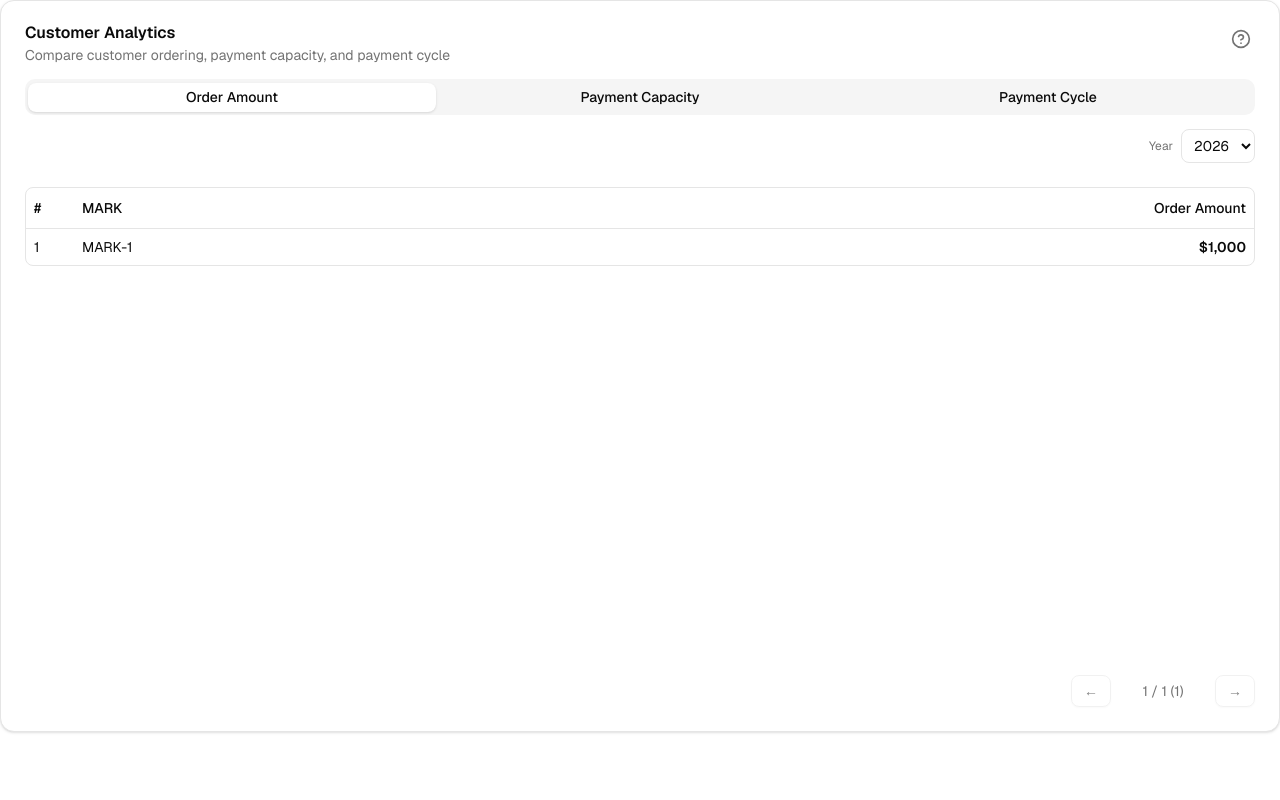
CustomerAnalyticsCard › opens the active metric detail dialog and loads evidence lazily
The image size is (1280, 800).
Click the row named "Open analytics detail for Customer 1".
click(107, 246)  # box [26, 228, 1254, 264]
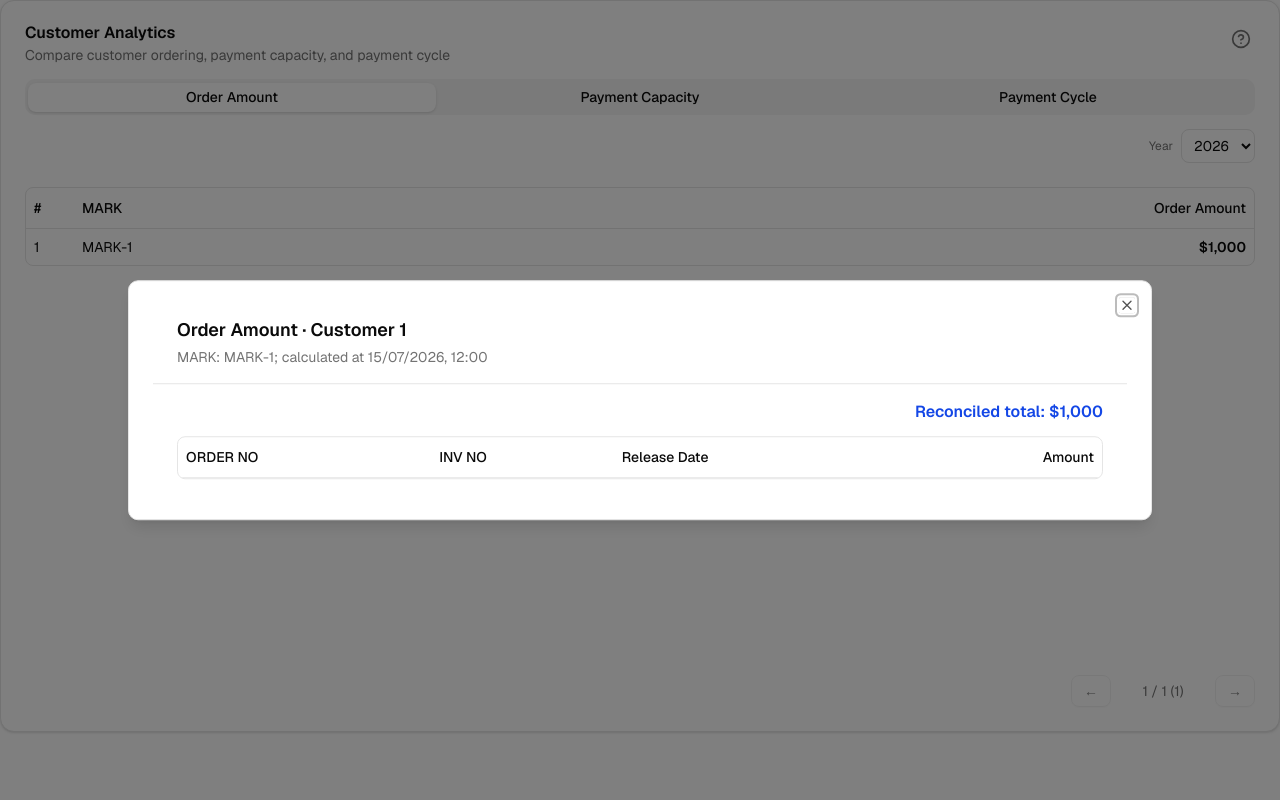
Now the dialog is shown, box [128, 280, 1152, 520]
